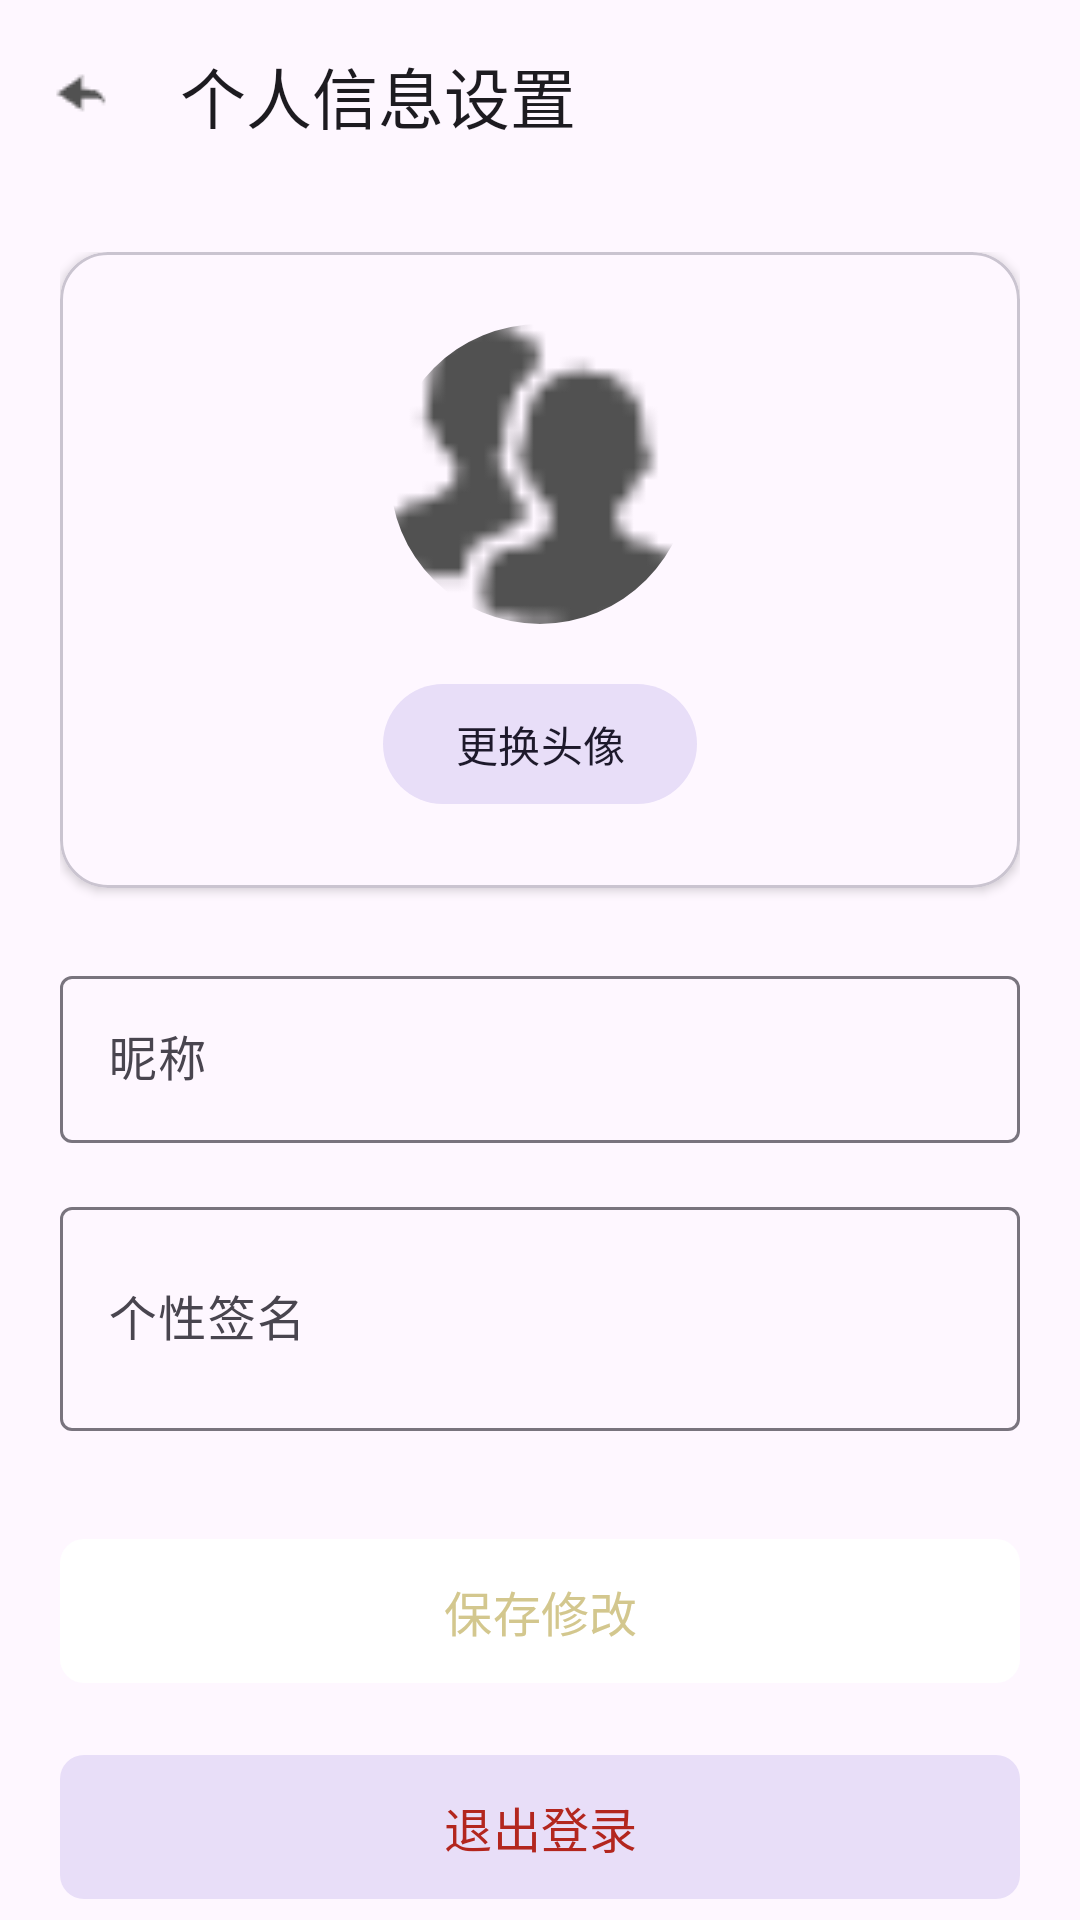

Icon click points for this 1080×1920 phone screenshot, format point (x, y):
friend: point (532, 475)
